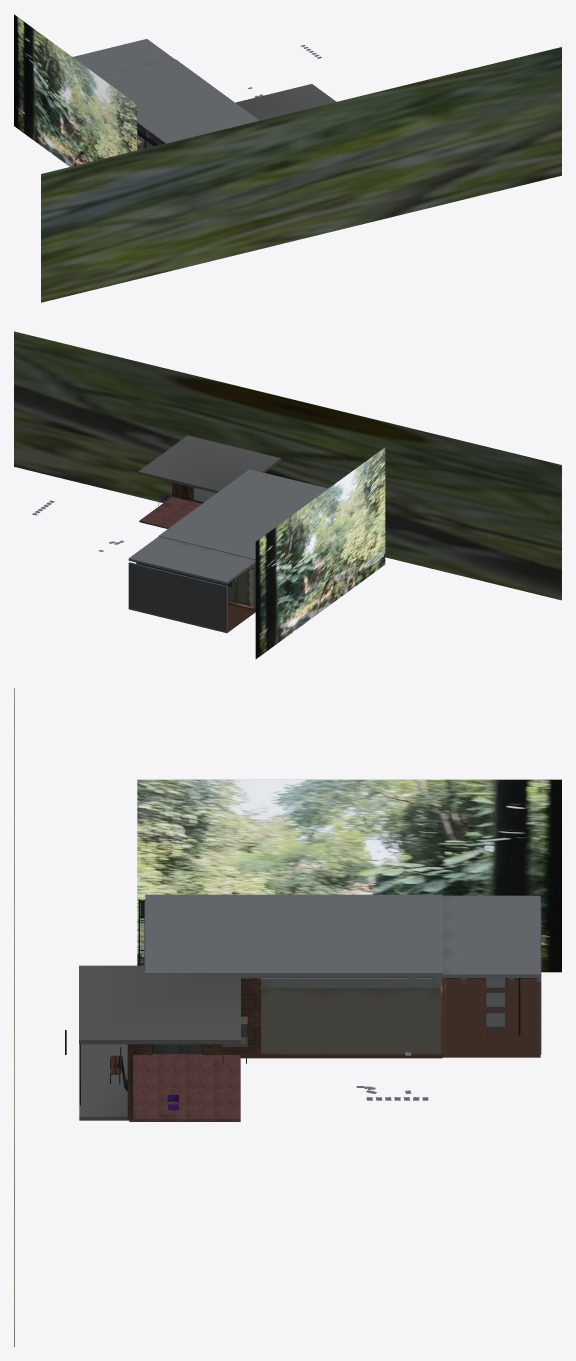
File: walkthrough-baked.glb
3 renders of one model, top to bottom at view 1: azimuth 30°, elevation 25°; view 2: azimuth 150°, elevation 25°; view 3: azimuth 270°, elevation 25°, orthographic. The views are drawn at different scales.
Visible parts, largest first — view 1: Distant canopy backdrop.001, Distant photographed courtyard.001, Ceiling slab.001, Adjacent studio ceiling.001, Soffit.001; view 2: Distant canopy backdrop.001, Distant photographed courtyard.001, Ceiling slab.001, Adjacent rear pale wall.001, Soffit.001, Adjacent studio ceiling.001, Entrance floor, Adjacent studio floor.001, Cream storage cupboard 1; view 3: Distant photographed courtyard.001, Ceiling slab.001, Long softboard wall, Soffit.001, Adjacent studio ceiling.001, Entrance floor, Adjacent studio floor.001, Balcony slab.001, Latch side mortar.001, Main studio floor.
Part boxes in pixels (x1=…): Distant canopy backdrop.001: x1=41, y1=47, x2=561, y2=302; Distant photographed courtyard.001: x1=14, y1=14, x2=137, y2=166; Ceiling slab.001: x1=100, y1=59, x2=258, y2=143; Adjacent studio ceiling.001: x1=73, y1=39, x2=174, y2=77; Soffit.001: x1=235, y1=84, x2=336, y2=120; Distant canopy backdrop.001: x1=14, y1=331, x2=561, y2=600; Distant photographed courtyard.001: x1=255, y1=447, x2=385, y2=658; Ceiling slab.001: x1=159, y1=469, x2=328, y2=559; Adjacent rear pale wall.001: x1=128, y1=562, x2=227, y2=631; Soffit.001: x1=138, y1=435, x2=281, y2=493; Adjacent studio ceiling.001: x1=128, y1=536, x2=255, y2=584; Entrance floor: x1=139, y1=496, x2=202, y2=528; Adjacent studio floor.001: x1=128, y1=604, x2=255, y2=633; Cream storage cupboard 1: x1=238, y1=571, x2=253, y2=606; Distant photographed courtyard.001: x1=137, y1=779, x2=561, y2=972; Ceiling slab.001: x1=145, y1=894, x2=442, y2=976; Long softboard wall: x1=261, y1=978, x2=440, y2=1053; Soffit.001: x1=79, y1=965, x2=240, y2=1044; Adjacent studio ceiling.001: x1=434, y1=895, x2=540, y2=977; Entrance floor: x1=129, y1=1053, x2=240, y2=1121; Adjacent studio floor.001: x1=442, y1=978, x2=540, y2=1057; Balcony slab.001: x1=79, y1=1044, x2=129, y2=1120; Latch side mortar.001: x1=203, y1=978, x2=260, y2=1054; Main studio floor: x1=177, y1=978, x2=445, y2=1058.
Size of the model in its own units: 39 by 10 by 20.65.
Materials: 75 (13 with a texture image).
